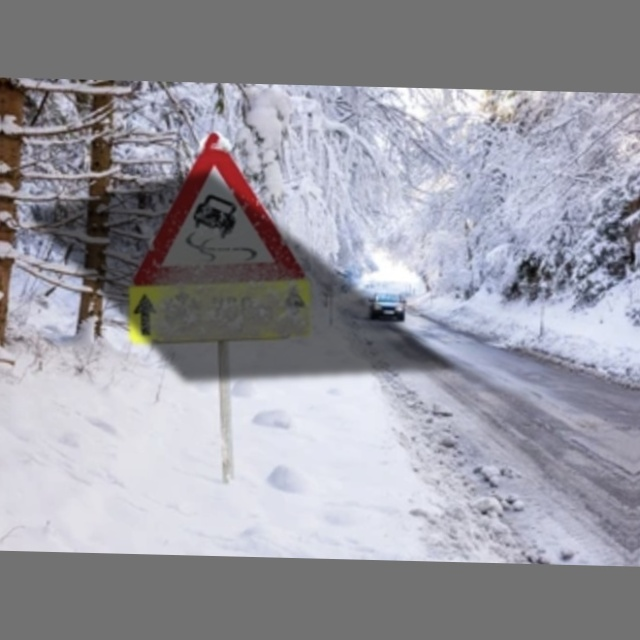Slippery_Road: (134, 124, 299, 302)
